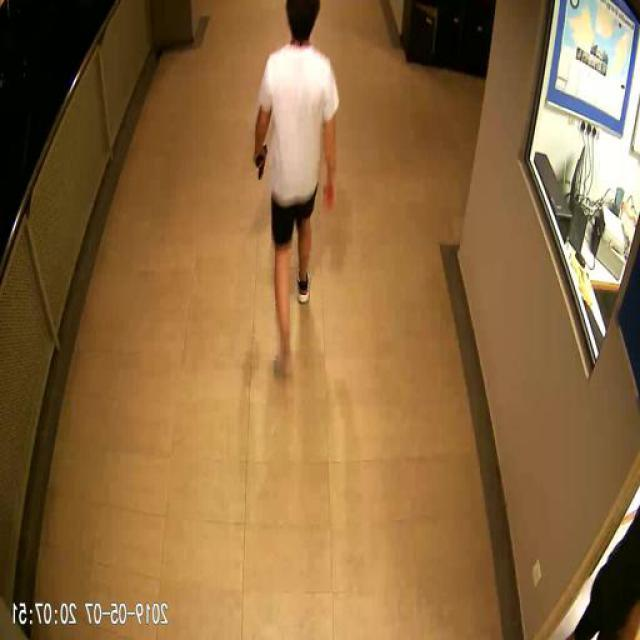Gun: (255, 141, 270, 179)
